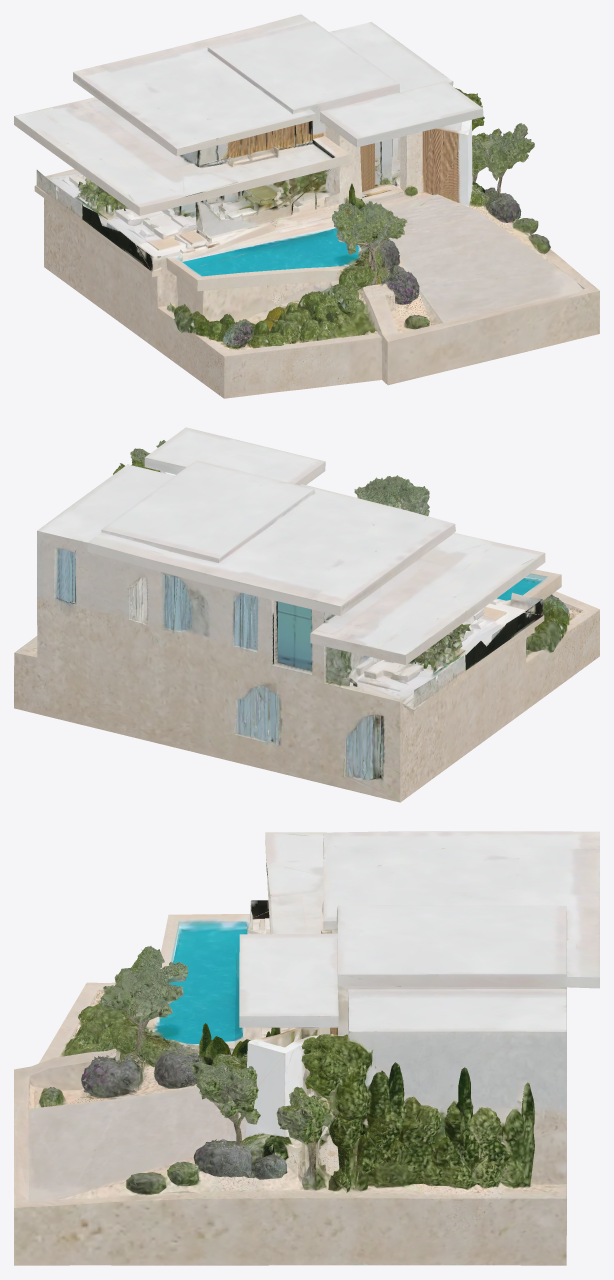
Rendered from casa-albedo.glb.
3 views of the same model, one above another, from view 1: azimuth 30°, elevation 25°; view 2: azimuth 150°, elevation 25°; view 3: azimuth 270°, elevation 25° (orthographic). The views are drawn at different scales.
Visible parts, largest first — view 1: Mesh_0; view 2: Mesh_0; view 3: Mesh_0.
Boxes of the visible parts, left/top/right/bottom form: Mesh_0: left=14, top=14, right=599, bottom=398; Mesh_0: left=14, top=427, right=599, bottom=802; Mesh_0: left=14, top=831, right=599, bottom=1265.
Size of the model in its own units: 1.89 by 0.8617 by 1.89.
Materials: 1 (1 with a texture image).
